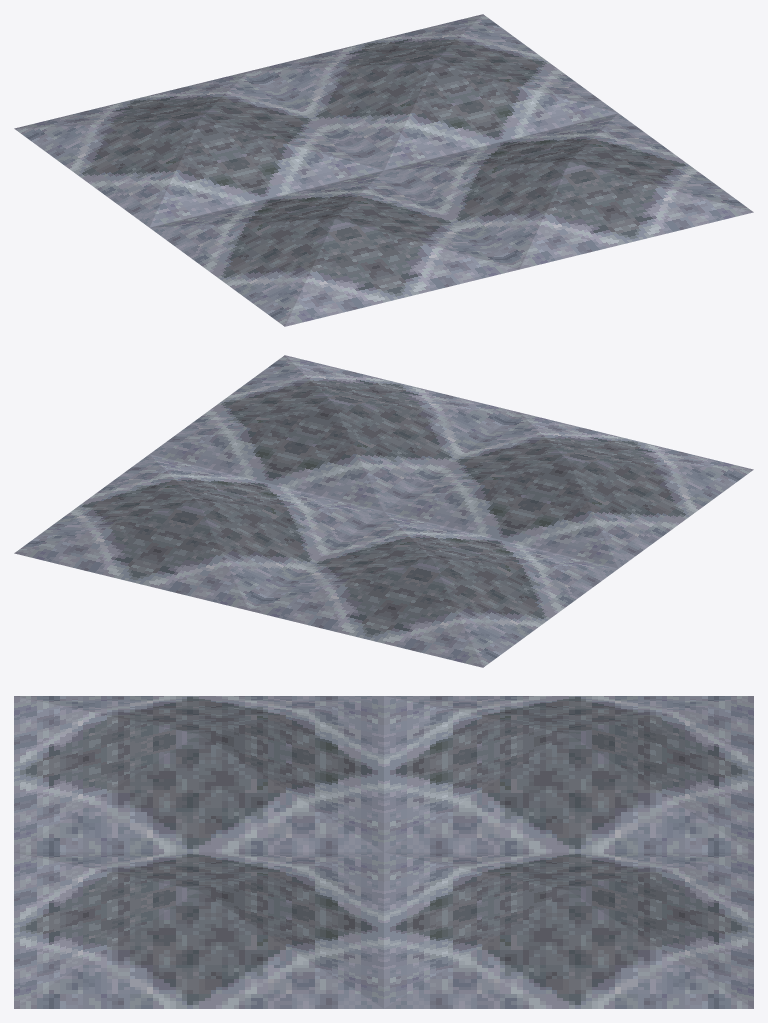
Rendered from fl_uki_yuka.glb.
3 views of the same model, one above another, from view 1: azimuth 30°, elevation 25°; view 2: azimuth 150°, elevation 25°; view 3: azimuth 270°, elevation 25° (orthographic). The views are drawn at different scales.
Visible parts, largest first — view 1: fl_uki_yuka; view 2: fl_uki_yuka; view 3: fl_uki_yuka.
Part boxes in pixels (x1,y1,x2,y2): fl_uki_yuka: [14, 14, 753, 326]; fl_uki_yuka: [14, 355, 753, 667]; fl_uki_yuka: [14, 696, 753, 1008].
Size of the model in its own units: 250 by 15 by 250.
Materials: 1 (1 with a texture image).
